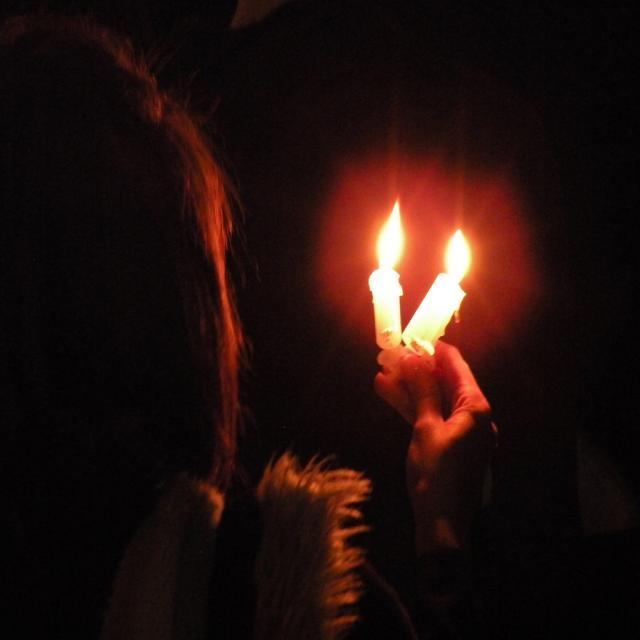Fire: (442, 212, 472, 305), (372, 201, 407, 273)
